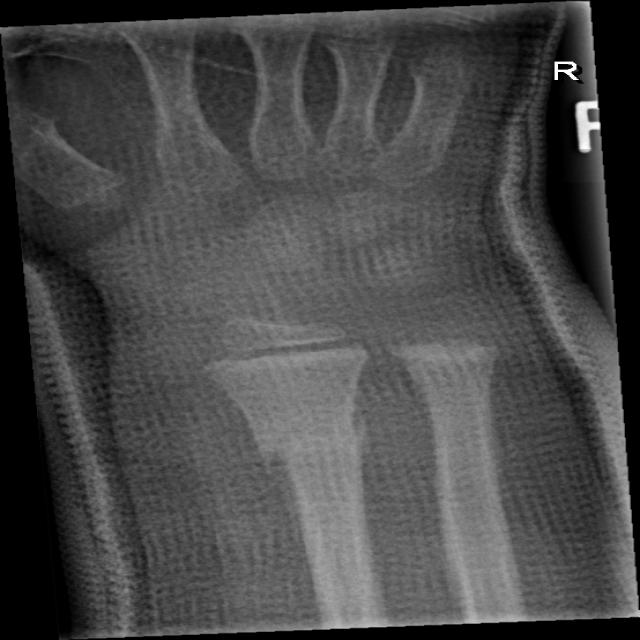radius fracture: (212, 398, 413, 494)
